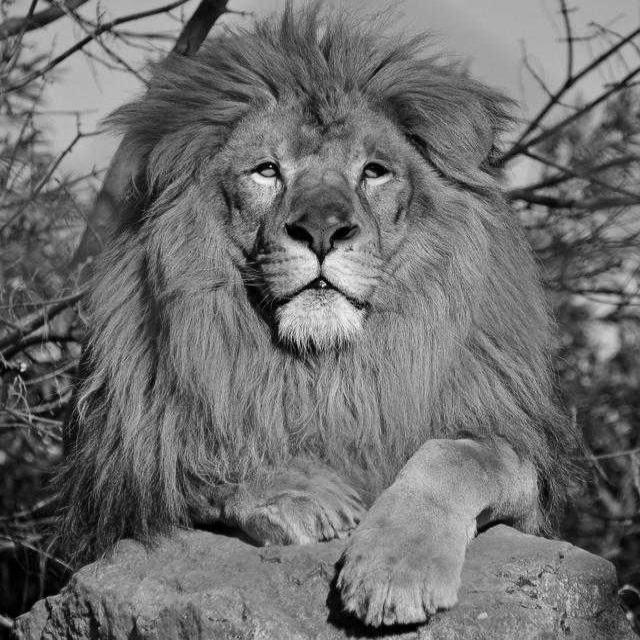Lion: (61, 11, 606, 574)
